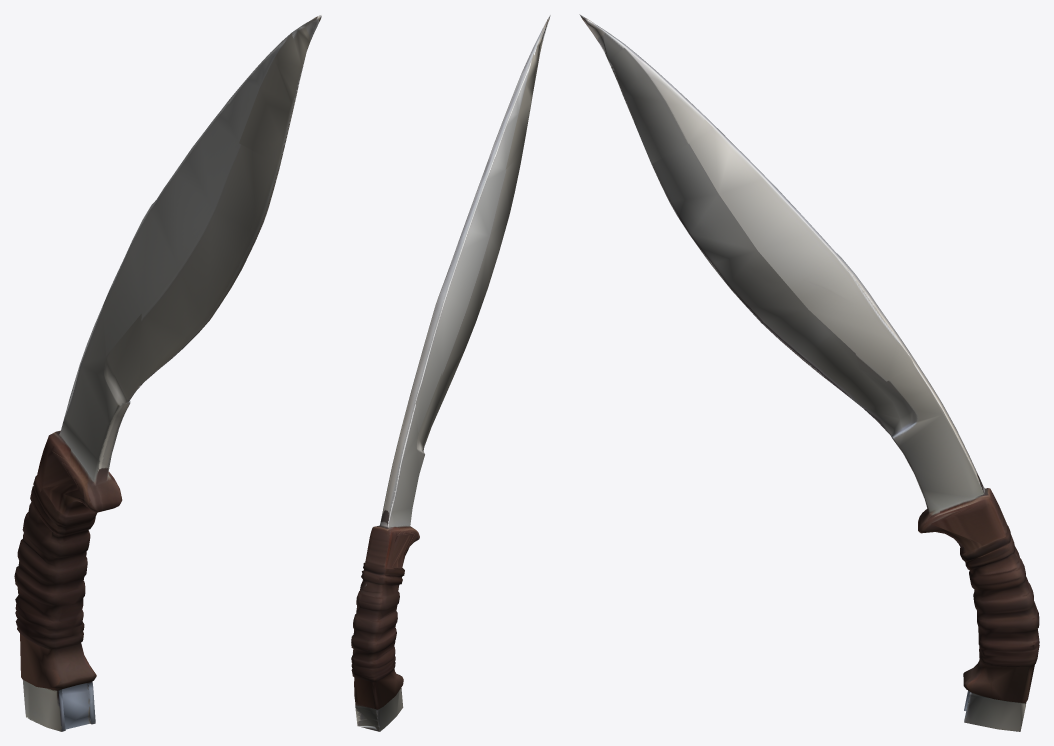
Rendered from model bolo knife.fbx.
3 renders of one model, left to right at view 1: azimuth 30°, elevation 25°; view 2: azimuth 150°, elevation 25°; view 3: azimuth 270°, elevation 25°, orthographic. The views are drawn at different scales.
Parts seen in each view (by area): view 1: model.001; view 2: model.001; view 3: model.001.
Part boxes in pixels (bbox=[...]): model.001: bbox=[14, 14, 322, 731]; model.001: bbox=[351, 15, 550, 731]; model.001: bbox=[579, 14, 1039, 731].
Size of the model in its own units: 44.94 by 733 by 430.
1 material, 1 textured.
